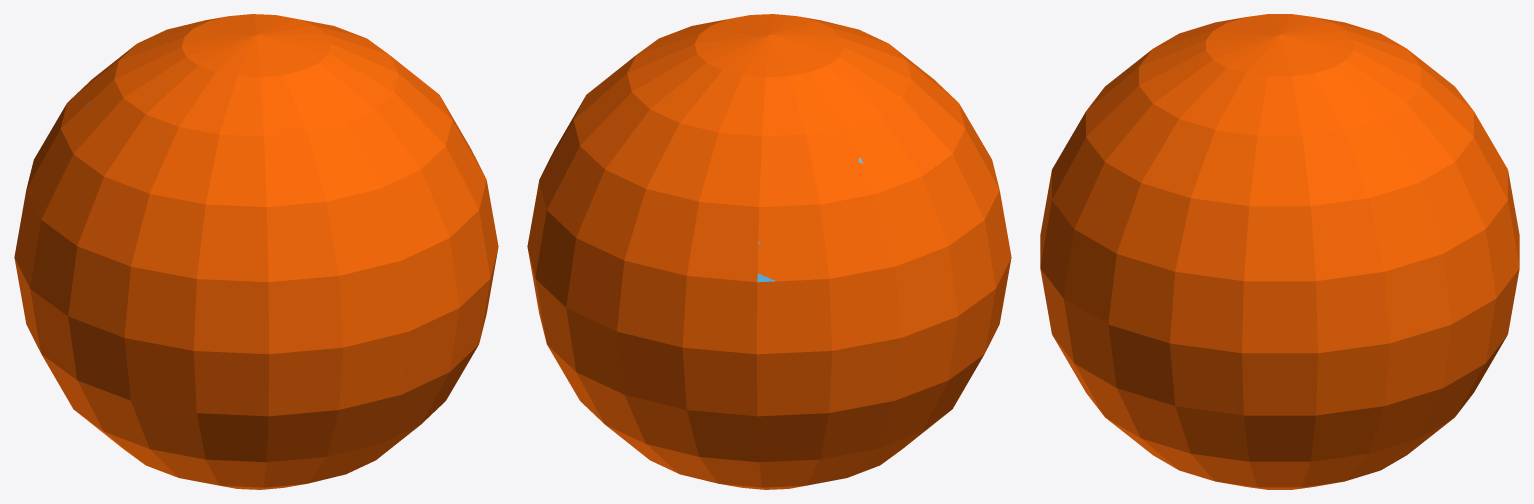
File: explosion.gltf
3 renders of one model, left to right at view 1: azimuth 30°, elevation 25°; view 2: azimuth 150°, elevation 25°; view 3: azimuth 270°, elevation 25°, orthographic.
Visible parts, largest first — view 1: sphere; view 2: sphere; view 3: sphere.
Boxes of the visible parts, left/top/right/bottom form: sphere: left=14, top=14, right=498, bottom=489; sphere: left=527, top=14, right=1011, bottom=489; sphere: left=1040, top=14, right=1519, bottom=489.
Size of the model in its own units: 1 by 1 by 1.
1 material, 1 textured.
